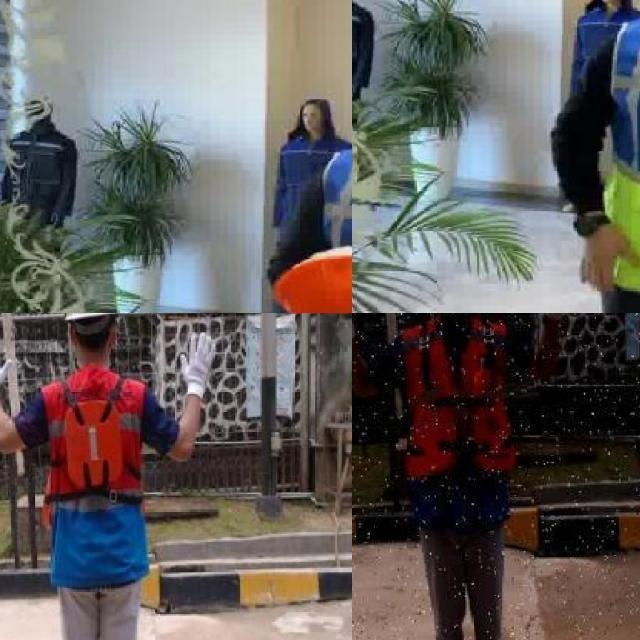apron: (176, 333, 221, 401), (0, 326, 10, 392)
